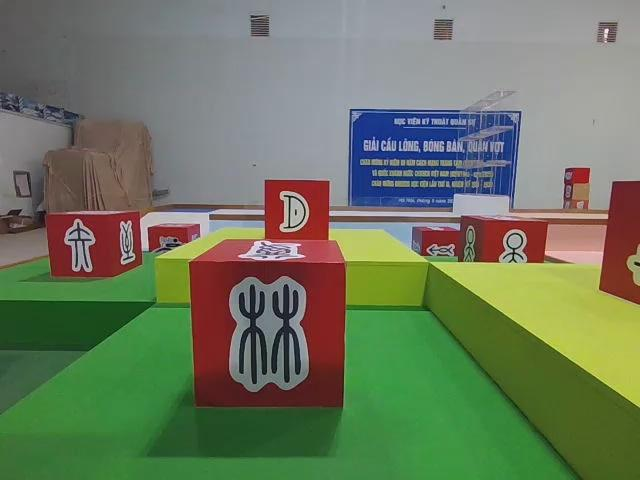R1: (147, 223, 199, 260)
R2 Fake: (189, 239, 345, 410), (45, 212, 143, 279)
R2 Real: (461, 215, 547, 273), (264, 179, 330, 245), (413, 227, 463, 265)
